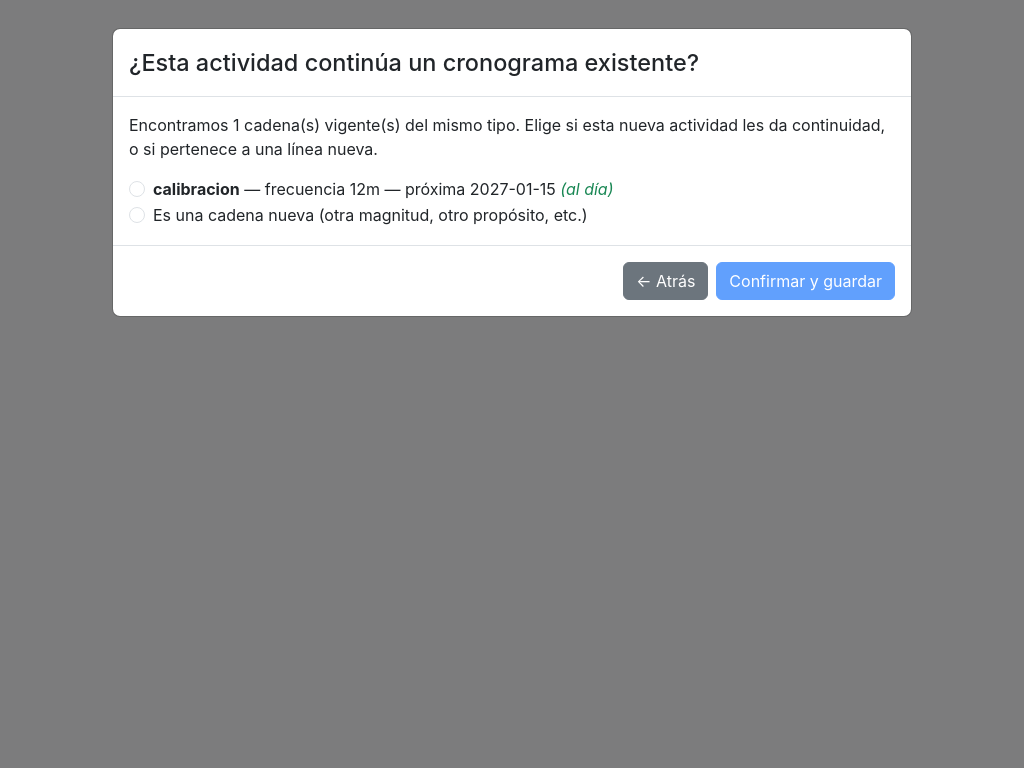
it: ContinuidadCadenaModal › muestra la caja informativa al elegir una cadena vigente
Check: the text "quedará cerrada" is not shown
Click the radio button labelled "calibracion — frecuencia 12m — próxima 2027-01-15 (al día)" at (137, 189), box [129, 181, 145, 197]
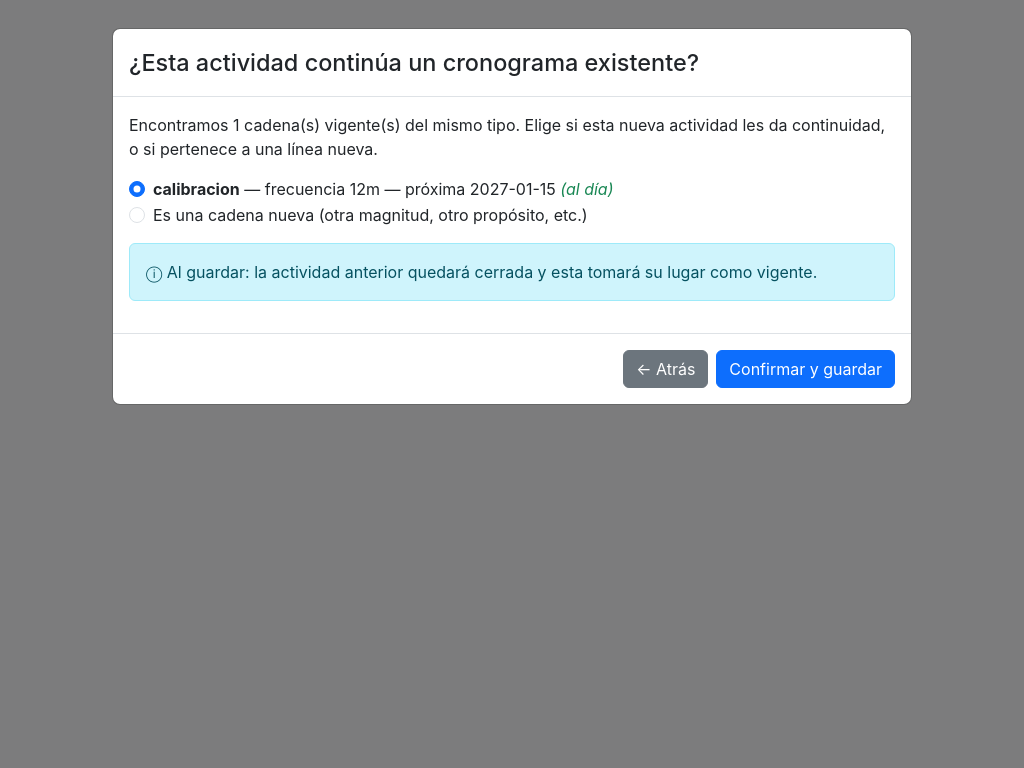
Check: the text "quedará cerrada" is shown, box [146, 262, 817, 282]
